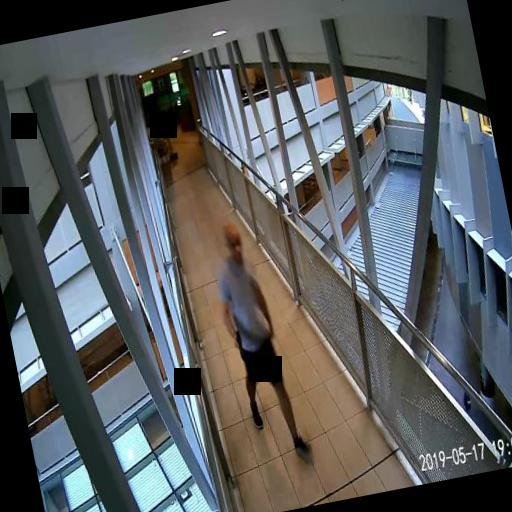Handgun: (232, 328, 244, 360)
